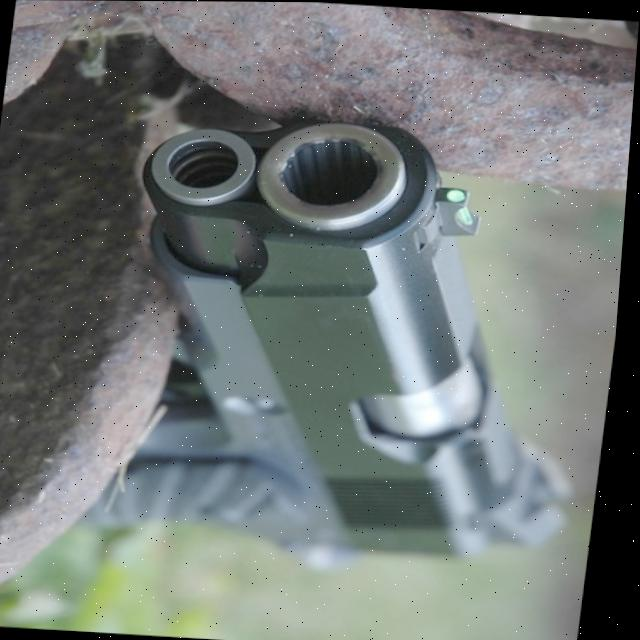pistol: (77, 100, 626, 588)
